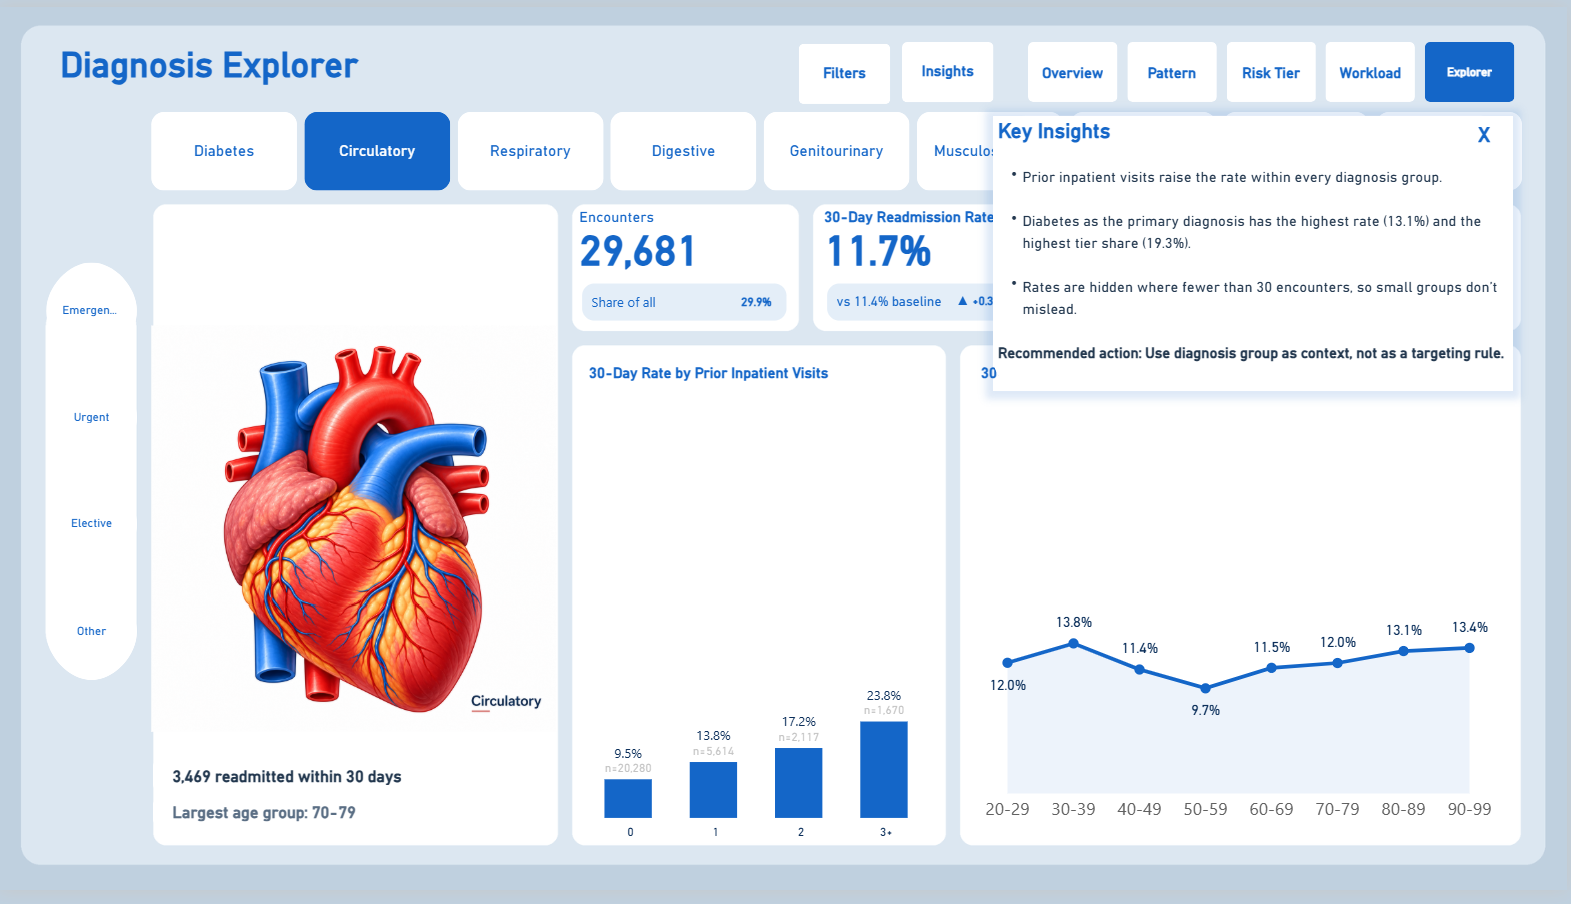

Layout of this report page (visuals, bound fields, positions):
{"tool":"powerbi","page":{"name":"Explorer","canvas":[1280,720],"ordinal":4},"visuals":[{"type":"textbox","box":[50.5,29.7,529.2,55],"z":0},{"type":"cardVisual","title":"Total Encounters","fields":{"Data":["_Measures.Encounters Display"]},"box":[465.5,166.1,187.1,100.3],"z":1000},{"type":"cardVisual","title":"Total Encounters","fields":{"Data":["_Measures.Readmission Rate"]},"box":[666.1,166.1,184.1,100.3],"z":2000},{"type":"cardVisual","title":"Total Encounters","fields":{"Data":["_Measures.Tier Share"]},"box":[1059.8,166.1,178.1,100.3],"z":3000},{"type":"clusteredColumnChart","title":"30-Day Rate by Prior Inpatient Visits","fields":{"Category":["Encounters.Prior Visits Group"],"Y":["_Measures.Rate (min 30)"]},"box":[466,277.5,308.4,419.7],"z":4000},{"type":"cardVisual","title":"Total Encounters","fields":{"Data":["_Measures.Avg Length of Stay"]},"box":[863.7,166.1,184.1,100.3],"z":5000},{"type":"advancedSlicerVisual","fields":{"Values":["Diagnosis Group.diag_group"]},"box":[124.2,85.3,1124.1,64.4],"z":6000},{"type":"image","box":[124.2,166.1,330.8,519.4],"z":7000},{"type":"lineChart","title":"30-Day Rate Across Age Groups","fields":{"Category":["Encounters.age_band"],"Y":["_Measures.Rate (min 30)"]},"box":[786.4,277.5,452.3,407.7],"z":8000},{"type":"cardVisual","fields":{"Data":["_Measures.Top Age Caption"]},"box":[125.1,642.4,193.6,27.4],"z":9000},{"type":"cardVisual","fields":{"Data":["_Measures.Readmitted Caption"]},"box":[125.1,611.6,224.4,30.8],"z":10000},{"type":"pageNavigator","box":[839.6,28.9,397.7,49.3],"z":11000},{"type":"actionButton","title":"Insight","box":[737.6,28.9,74.8,49.3],"z":12000},{"type":"actionButton","title":"Filter","box":[652.6,30.6,74.8,49.3],"z":14000},{"type":"advancedSlicerVisual","fields":{"Values":["Admission Type.Admission Strip"]},"box":[39,209,74,343],"z":16000}]}

Visuals, with their boxes in screenshot pixels (x1, y1, x2, y2), scaled from the page's 1280x720 canvas onto the 1571x904 screenshot:
textbox: box=[62, 37, 711, 106]
"Total Encounters" cardVisual: box=[571, 209, 801, 334]
"Total Encounters" cardVisual: box=[818, 209, 1043, 334]
"Total Encounters" cardVisual: box=[1301, 209, 1519, 334]
"30-Day Rate by Prior Inpatient Visits" clusteredColumnChart: box=[572, 348, 950, 875]
"Total Encounters" cardVisual: box=[1060, 209, 1286, 334]
advancedSlicerVisual - Diagnosis Group.diag_group: box=[152, 107, 1532, 188]
image: box=[152, 209, 558, 861]
"30-Day Rate Across Age Groups" lineChart: box=[965, 348, 1520, 860]
cardVisual - _Measures.Top Age Caption: box=[154, 807, 391, 841]
cardVisual - _Measures.Readmitted Caption: box=[154, 768, 429, 807]
pageNavigator: box=[1030, 36, 1519, 98]
"Insight" actionButton: box=[905, 36, 997, 98]
"Filter" actionButton: box=[801, 38, 893, 100]
advancedSlicerVisual - Admission Type.Admission Strip: box=[48, 262, 139, 693]
